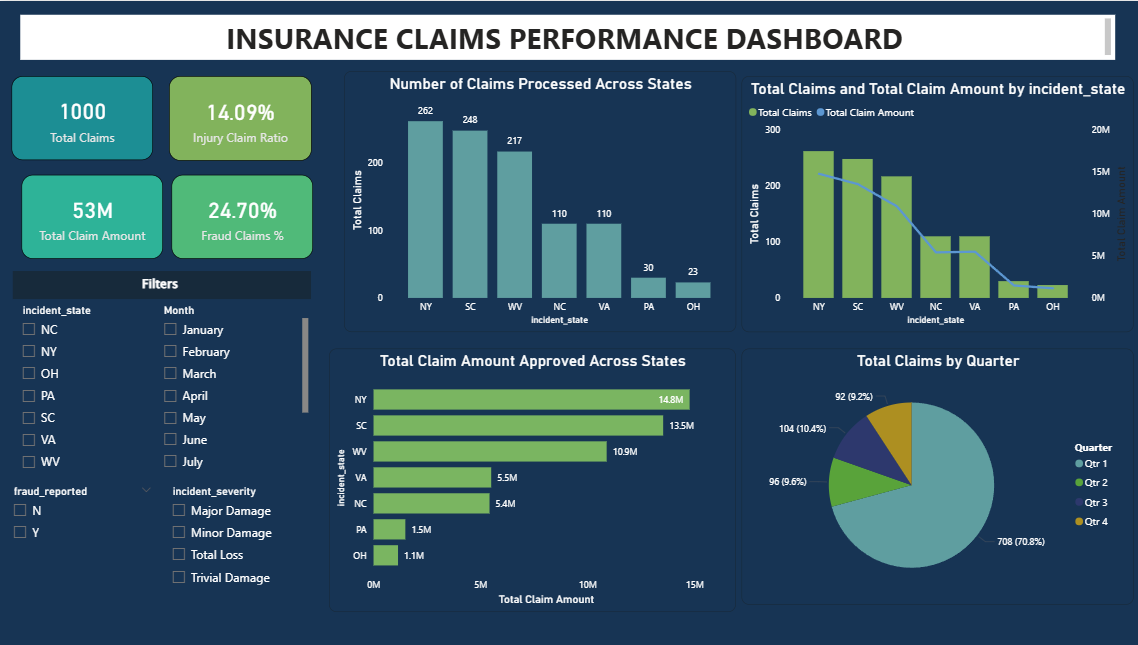

Layout of this report page (visuals, bound fields, positions):
{"tool":"powerbi","page":{"name":"Insurance Claims Overview Dashboard","canvas":[1500,850],"ordinal":0},"visuals":[{"type":"card","fields":{"Values":["insurance.Total Claims"]},"box":[16.7,98.7,185.9,110.3],"z":0},{"type":"card","fields":{"Values":["insurance.Total Claim Amount"]},"box":[29,227.5,185.5,110.1],"z":1000},{"type":"card","fields":{"Values":["insurance.Injury Claim Ratio"]},"box":[223.2,98.6,187,111.6],"z":2000},{"type":"card","fields":{"Values":["insurance.Fraud Claims %"]},"box":[225.6,228.2,185.9,110.3],"z":3000},{"type":"columnChart","title":"Number of Claims Processed Across States","fields":{"Category":["insurance.incident_state"],"Y":["insurance.Total Claims"]},"box":[452.3,91.7,514.4,342.4],"z":4000},{"type":"clusteredBarChart","title":"Total Claim Amount Approved Across States","fields":{"Category":["insurance.incident_state"],"Y":["insurance.Total Claim Amount"]},"box":[433.3,456.2,533.3,345.8],"z":5000},{"type":"lineClusteredColumnComboChart","fields":{"Category":["insurance.incident_state"],"Y":["insurance.Total Claims"],"Y2":["insurance.Total Claim Amount"]},"box":[974.2,98.5,514.4,335.6],"z":6000},{"type":"pieChart","fields":{"Y":["insurance.Total Claims"],"Category":["insurance.incident_date_clean.Variation.Date Hierarchy.Quarter"]},"box":[974.2,456.1,514.4,335.6],"z":7000},{"type":"slicer","fields":{"Values":["insurance.incident_state"]},"box":[18.6,391.4,185.7,237.1],"z":8000},{"type":"textbox","box":[18.6,354.3,391.4,37.1],"z":9000},{"type":"slicer","fields":{"Values":["insurance.incident_date_clean.Variation.Date Hierarchy.Month"]},"box":[202.9,391.4,207.1,237.1],"z":10000},{"type":"slicer","fields":{"Values":["insurance.incident_severity"]},"box":[214.5,629,195.7,172.5],"z":11000},{"type":"slicer","fields":{"Values":["insurance.fraud_reported"]},"box":[7.2,629,205.8,172.5],"z":12000},{"type":"textbox","box":[28.6,17.9,1435.7,58.9],"z":13000}]}

Visuals, with their boxes in screenshot pixels (x1, y1, x2, y2), scaled from the page's 1500x850 canvas onto the 1138x645 screenshot:
card - insurance.Total Claims: [13,75,154,159]
card - insurance.Total Claim Amount: [22,173,163,256]
card - insurance.Injury Claim Ratio: [169,75,311,160]
card - insurance.Fraud Claims %: [171,173,312,257]
"Number of Claims Processed Across States" columnChart: [343,70,733,329]
"Total Claim Amount Approved Across States" clusteredBarChart: [329,346,733,609]
lineClusteredColumnComboChart - insurance.incident_state x insurance.Total Claims: [739,75,1129,329]
pieChart - insurance.Total Claims x insurance.incident_date_clean.Variation.Date Hierarchy.Quarter: [739,346,1129,601]
slicer - insurance.incident_state: [14,297,155,477]
textbox: [14,269,311,297]
slicer - insurance.incident_date_clean.Variation.Date Hierarchy.Month: [154,297,311,477]
slicer - insurance.incident_severity: [163,477,311,608]
slicer - insurance.fraud_reported: [5,477,162,608]
textbox: [22,14,1111,58]
